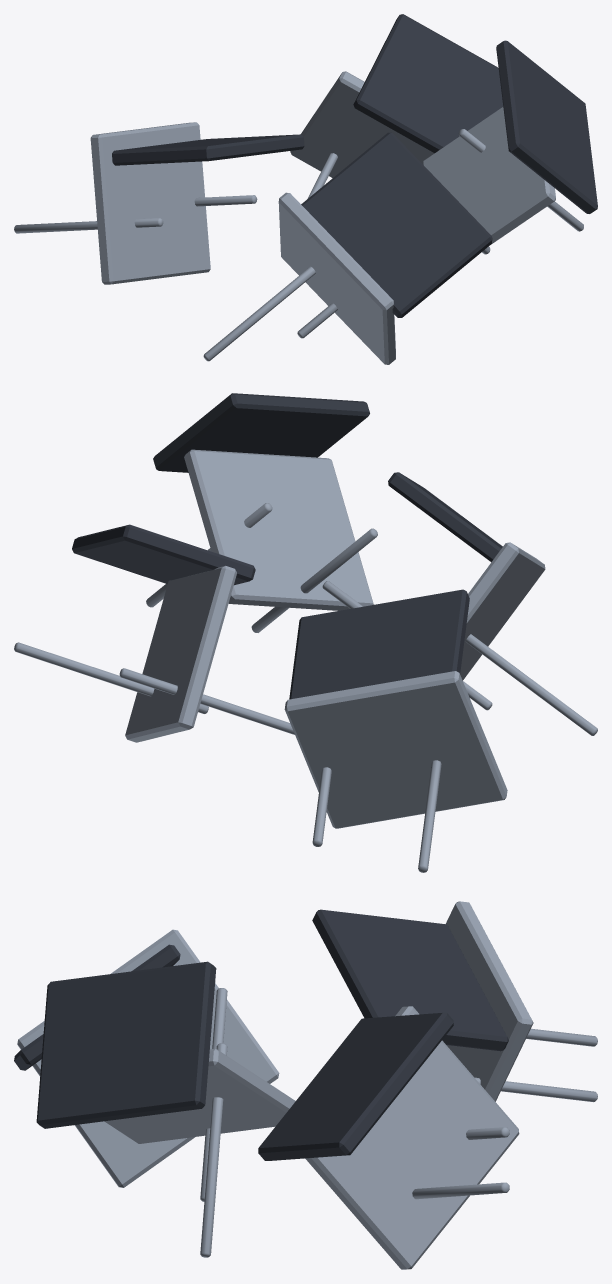
File: prop_folding_chair_pile.obj
The picture shows the model from 3 angles, top to bottom: view 1: azimuth 30°, elevation 25°; view 2: azimuth 150°, elevation 25°; view 3: azimuth 270°, elevation 25°; orthographic projection. The views are drawn at different scales.
Parts seen in each view (by area): view 1: Back_2, Seat_0, Back_1, Back_3, Seat_3, Seat_2, Seat_1, Back_0, LegA_2, LegA_0, LegB_3, LegB_0; view 2: Seat_0, Seat_3, Back_0, Seat_1, Back_3, Back_1, Seat_2, Back_2, LegA_1, LegA_2, LegB_1, LegA_3 (+3 smaller); view 3: Back_3, Seat_1, Back_0, Back_1, Seat_2, Seat_3, Seat_0, LegB_3, Back_2, LegB_0, LegB_1, LegA_3 (+1 smaller).
Boxes of the visible parts, x1,y1,x2,y2 form: Back_2: [301, 132, 492, 317]; Seat_0: [90, 122, 210, 284]; Back_1: [353, 14, 503, 153]; Back_3: [496, 40, 597, 213]; Seat_3: [423, 107, 555, 244]; Seat_2: [278, 192, 395, 364]; Seat_1: [290, 71, 434, 177]; Back_0: [112, 134, 304, 165]; LegA_2: [203, 266, 315, 361]; LegA_0: [14, 218, 163, 233]; LegB_3: [458, 129, 583, 231]; LegB_0: [194, 195, 257, 206]; Seat_0: [284, 671, 507, 828]; Seat_3: [184, 449, 373, 610]; Back_0: [289, 589, 469, 699]; Seat_1: [125, 565, 236, 742]; Back_3: [153, 393, 369, 472]; Back_1: [72, 524, 255, 585]; Seat_2: [460, 542, 545, 680]; Back_2: [388, 472, 502, 562]; LegA_1: [119, 668, 294, 734]; LegA_2: [465, 634, 597, 735]; LegB_1: [14, 642, 208, 713]; LegA_3: [251, 528, 377, 632]; Back_3: [36, 961, 216, 1128]; Seat_1: [305, 1006, 519, 1269]; Back_0: [312, 909, 508, 1051]; Back_1: [258, 1012, 453, 1160]; Seat_2: [17, 929, 279, 1187]; Seat_3: [104, 1048, 295, 1143]; Seat_0: [446, 901, 533, 1101]; LegB_3: [200, 1043, 227, 1257]; Back_2: [14, 944, 180, 1070]; LegB_0: [475, 1077, 597, 1102]; LegB_1: [412, 1182, 509, 1199]; LegA_3: [200, 988, 227, 1201].
Size of the model in its own units: 1.6 by 0.9567 by 1.6.
